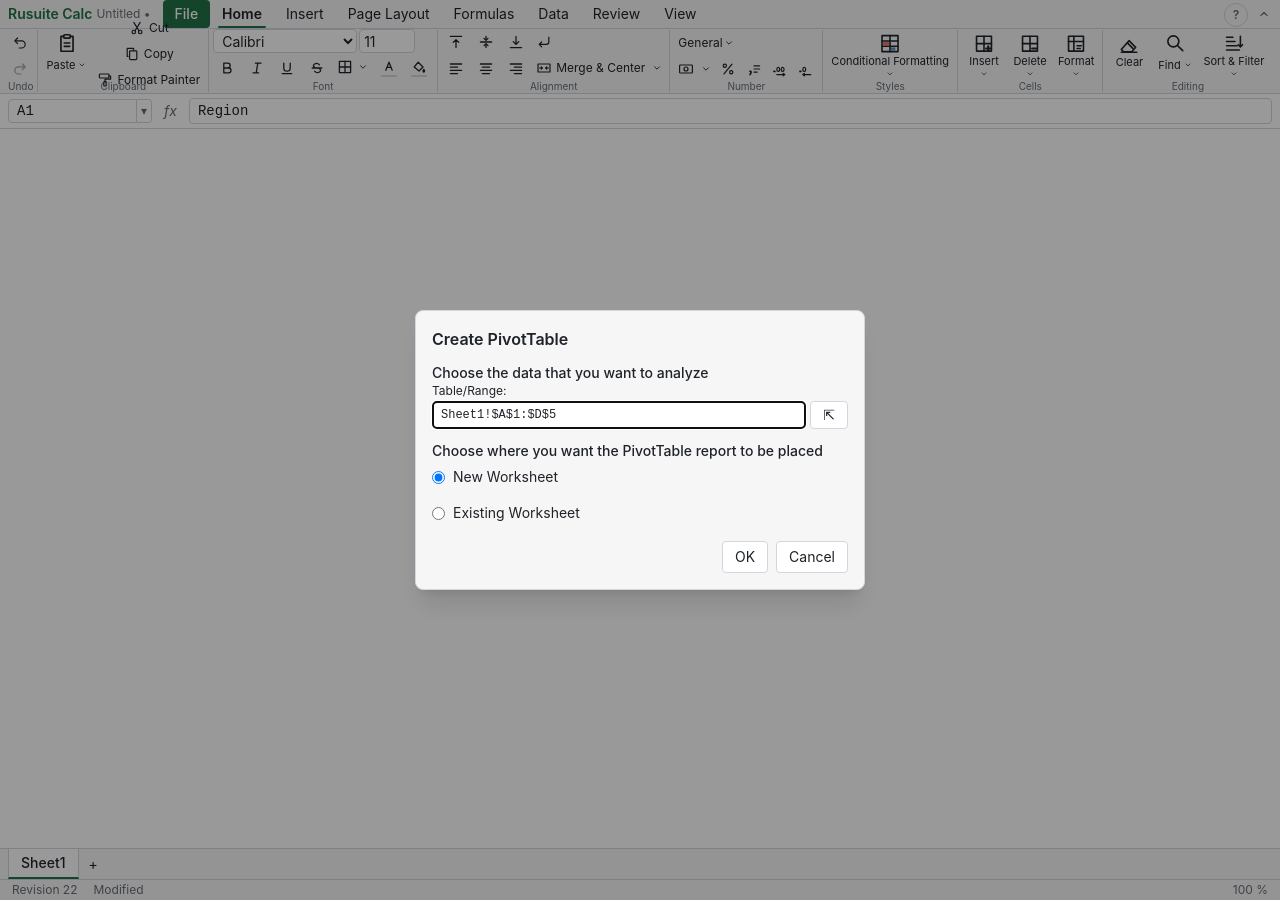
Test: Insert › PivotTable and the field pane › the dialog refuses a bad source and needs a location for an existing sheet
expect the tab "Sheet1" is shown: met, box [8, 849, 78, 879]
Replace the text in the field with test id "pivot-source" with "Nope!A1:B2" at coordinates (619, 415), box [432, 401, 806, 429]
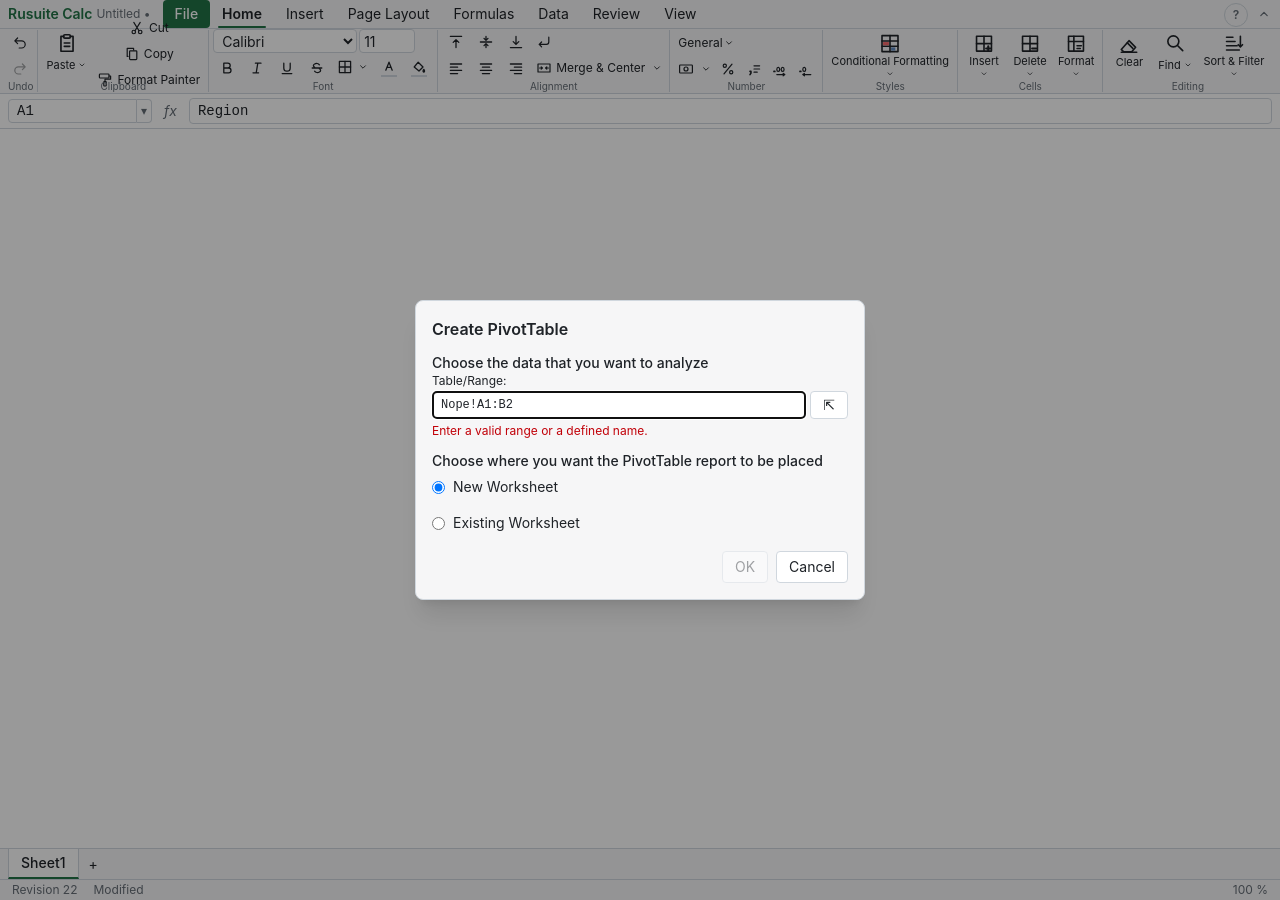
expect the text "Enter a valid range or a defined name." is shown: met, box [432, 423, 648, 438]
Replace the text in the field with test id "pivot-source" with "Sheet1!$A$1:$D$5" at coordinates (619, 405), box [432, 391, 806, 419]
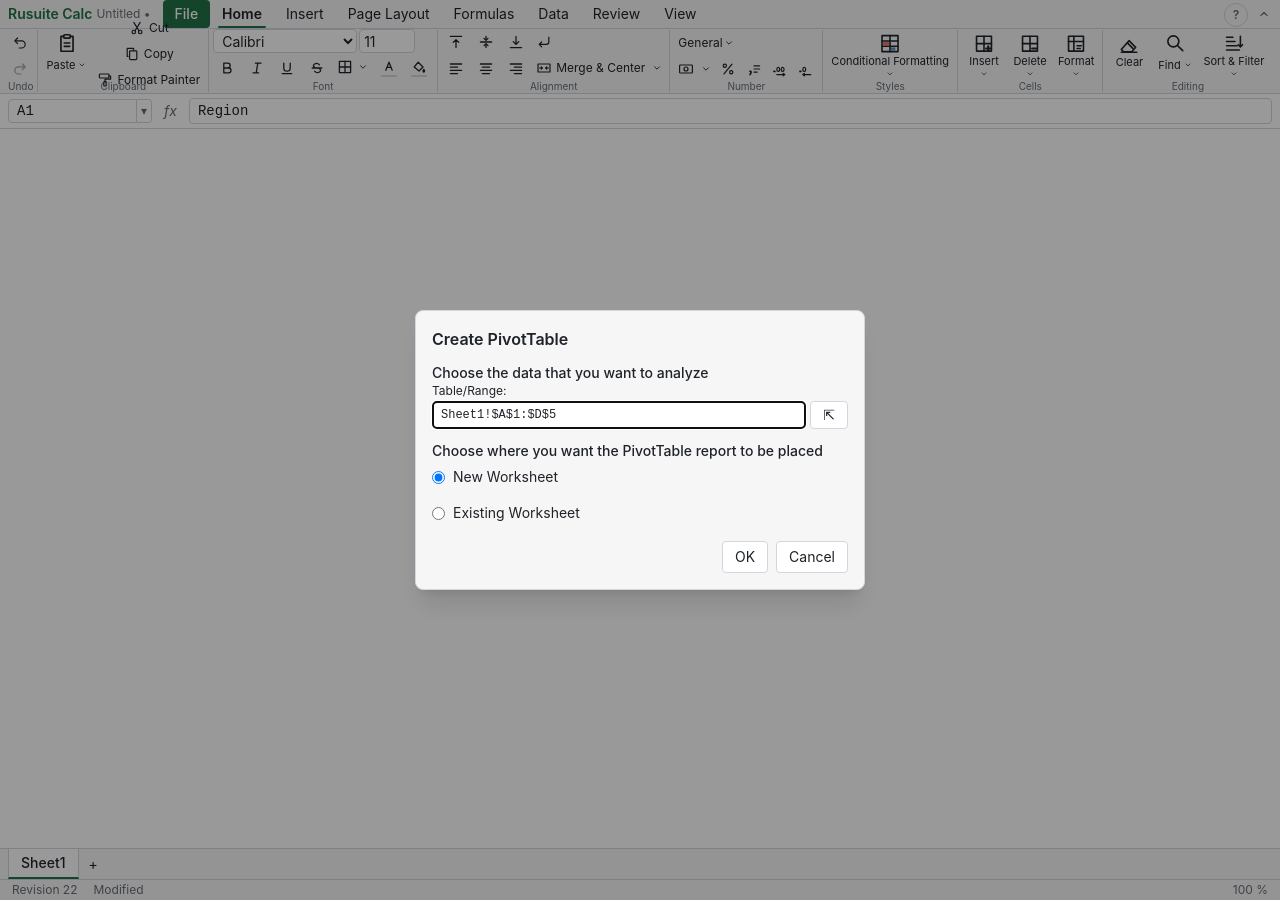
Click the radio button labelled "Existing Worksheet" at coordinates (438, 513), box [432, 506, 445, 520]
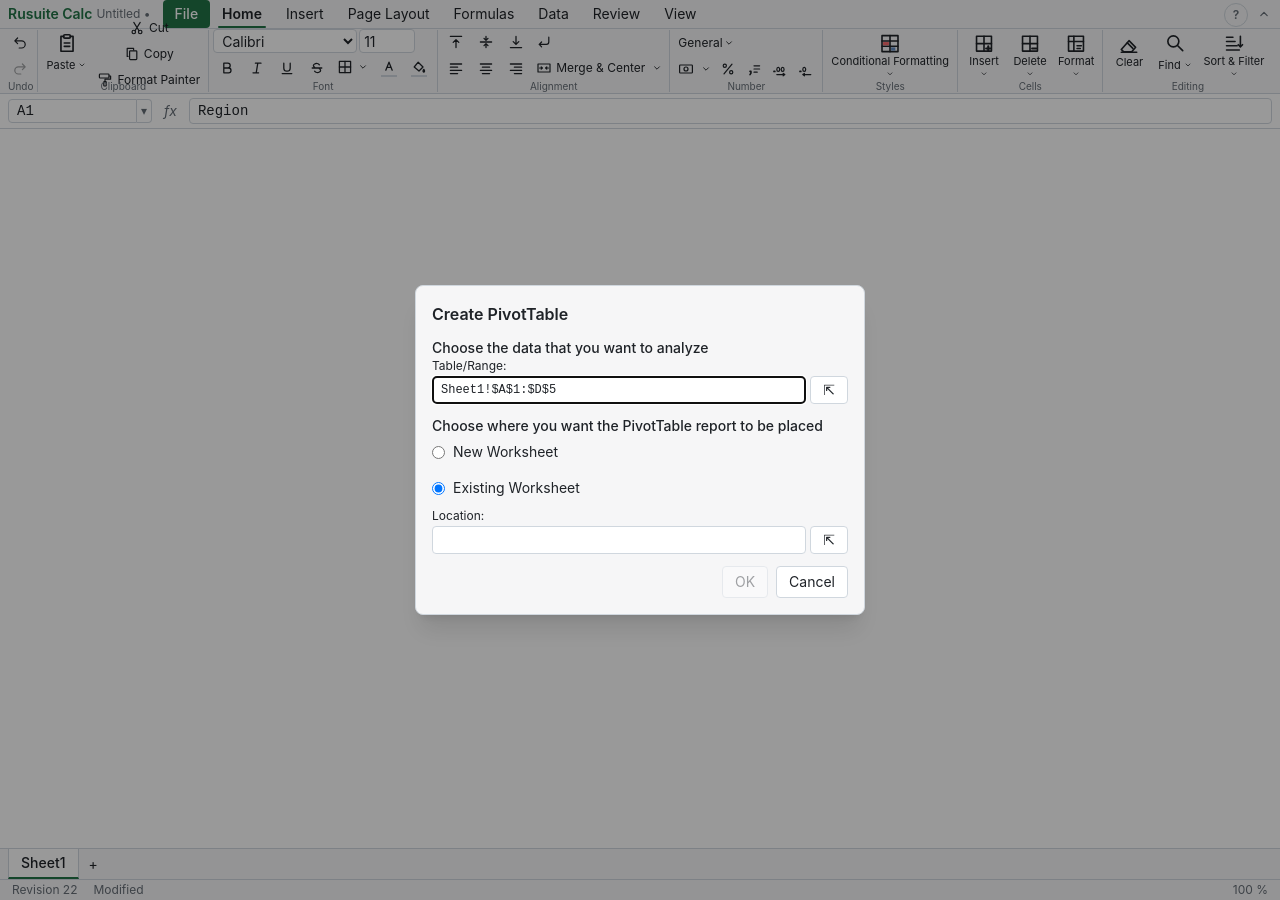
expect the button "OK" is disabled: met, box [722, 566, 768, 598]
Type "Sheet1!$F$3" into the field with test id "pivot-location" at coordinates (619, 540), box [432, 526, 806, 554]
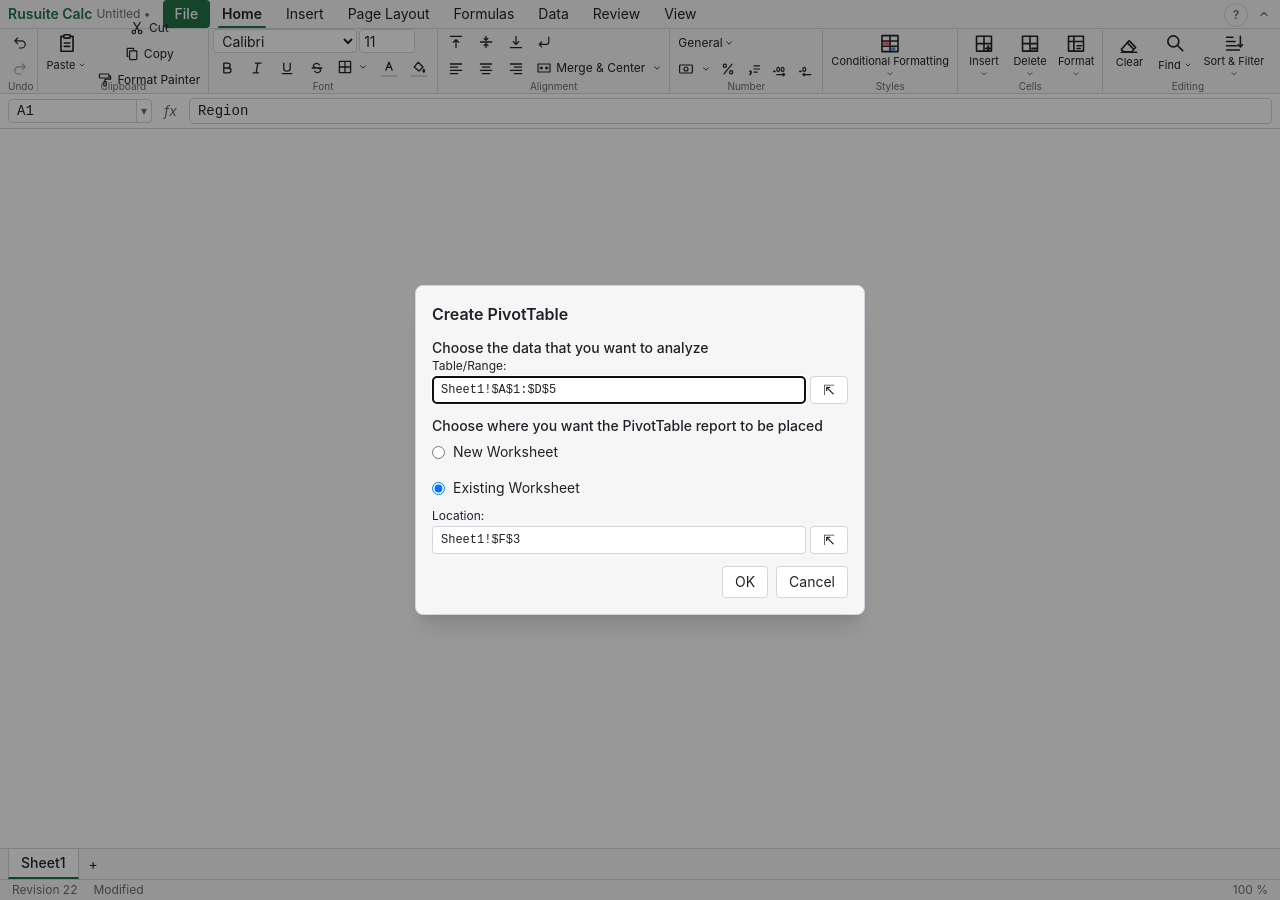
expect the button "OK" is enabled: met, box [722, 566, 768, 598]
